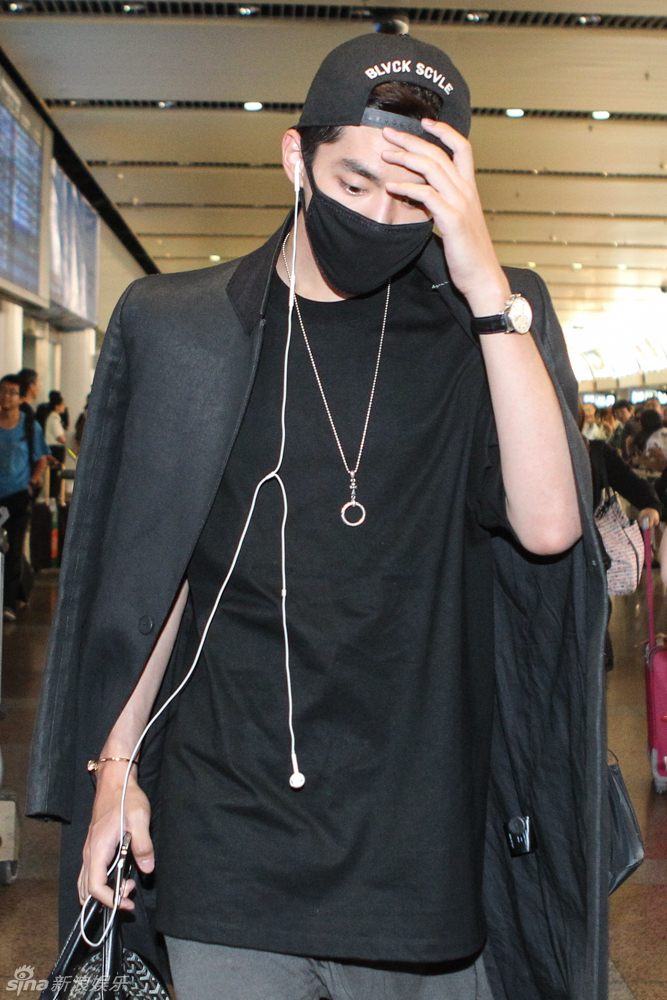face_mask: (308, 103, 438, 303), (1, 384, 16, 412)
